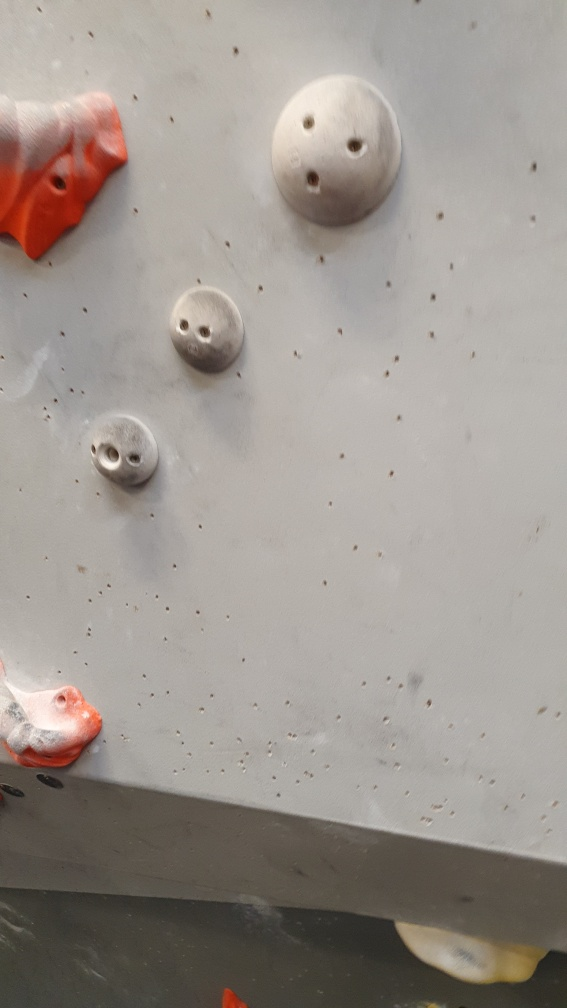Jug: (1, 82, 139, 267), (1, 652, 107, 784)
Sloper: (266, 72, 405, 230), (169, 281, 250, 378), (87, 412, 165, 494)
